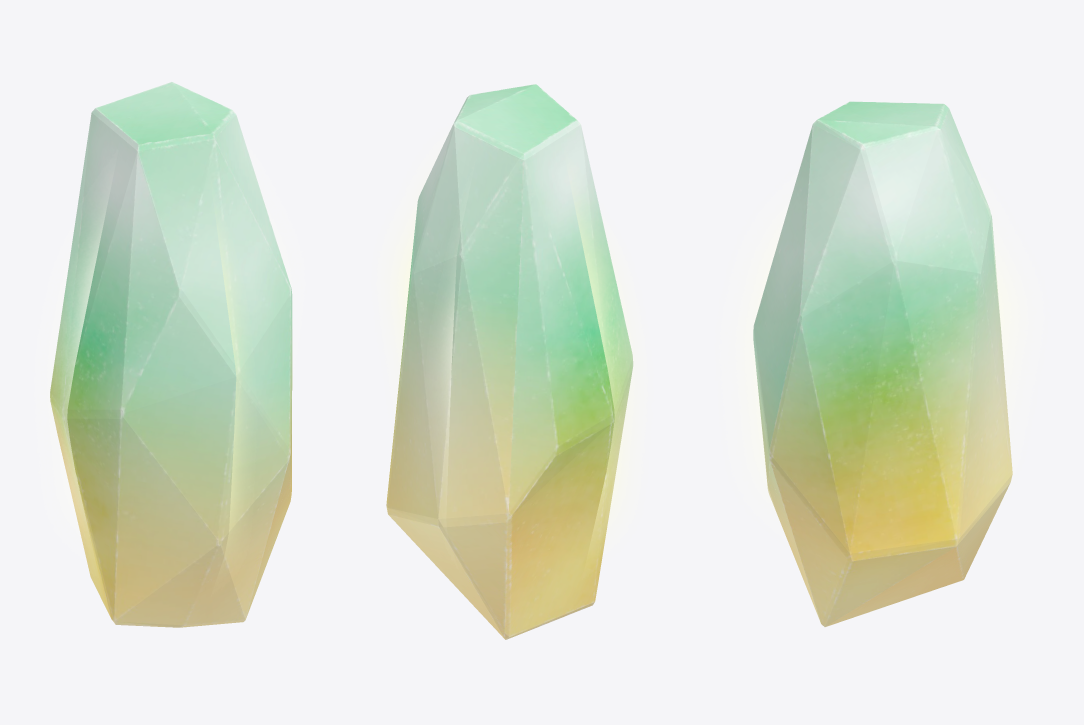
Rendered from gem_F.glb.
3 views of the same model, side by side, from view 1: azimuth 30°, elevation 25°; view 2: azimuth 150°, elevation 25°; view 3: azimuth 270°, elevation 25° (orthographic).
Visible parts, largest first — view 1: F, light-F; view 2: F, light-F; view 3: F, light-F.
Part boxes in pixels (x1,y1,x2,y2): F: (50,82,292,627); light-F: (47,192,292,553); F: (386,84,633,639); light-F: (389,192,634,545); F: (753,101,1012,626); light-F: (735,203,1028,511).
Size of the model in its own units: 2.92 by 4.99 by 3.09.
Materials: 2 (2 with a texture image).
